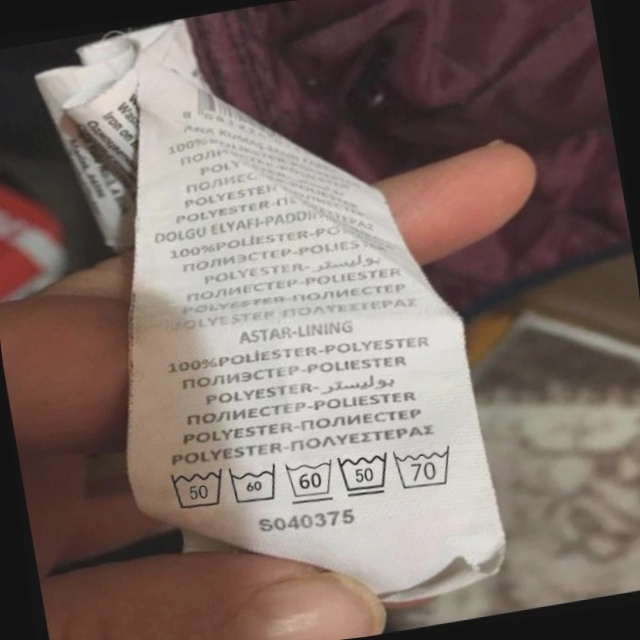50C: (162, 458, 232, 518), (333, 445, 397, 503)
60C: (282, 451, 342, 508), (225, 457, 286, 511)
70C: (391, 439, 463, 495)
